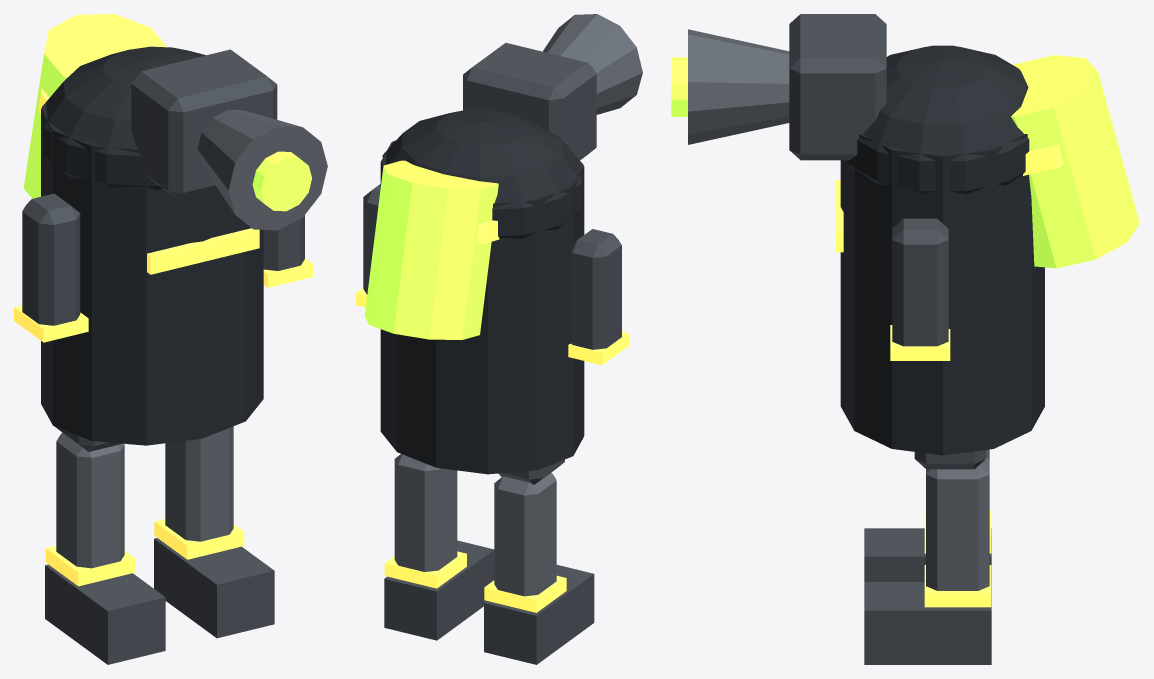
The model's file is Modle_Enemy_Spitter.fbx.
3 renders of one model, left to right at view 1: azimuth 30°, elevation 25°; view 2: azimuth 150°, elevation 25°; view 3: azimuth 270°, elevation 25°, orthographic. The views are drawn at different scales.
Parts seen in each view (by area): view 1: Modle_Enemy_Spitter; view 2: Modle_Enemy_Spitter; view 3: Modle_Enemy_Spitter.
Part boxes in pixels (left/top/right/bottom): Modle_Enemy_Spitter: left=14, top=14, right=327, bottom=664; Modle_Enemy_Spitter: left=356, top=14, right=642, bottom=664; Modle_Enemy_Spitter: left=671, top=14, right=1139, bottom=664.
Size of the model in its own units: 0.84 by 1.74 by 1.25.
